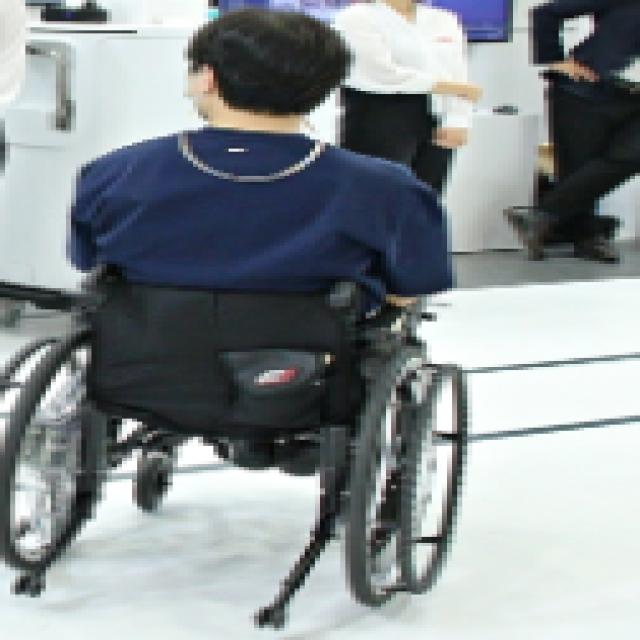wheelchair: (4, 9, 473, 621)
